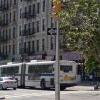Bus: (1, 56, 83, 88)
